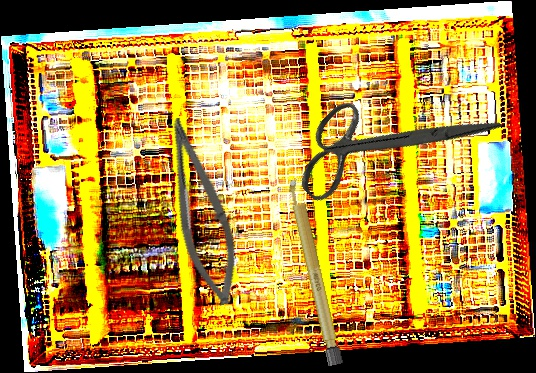Iris Scissors: (277, 32, 503, 255)
Micro Scissor: (147, 112, 253, 311)
Scalpel Handle: (285, 177, 345, 367)
